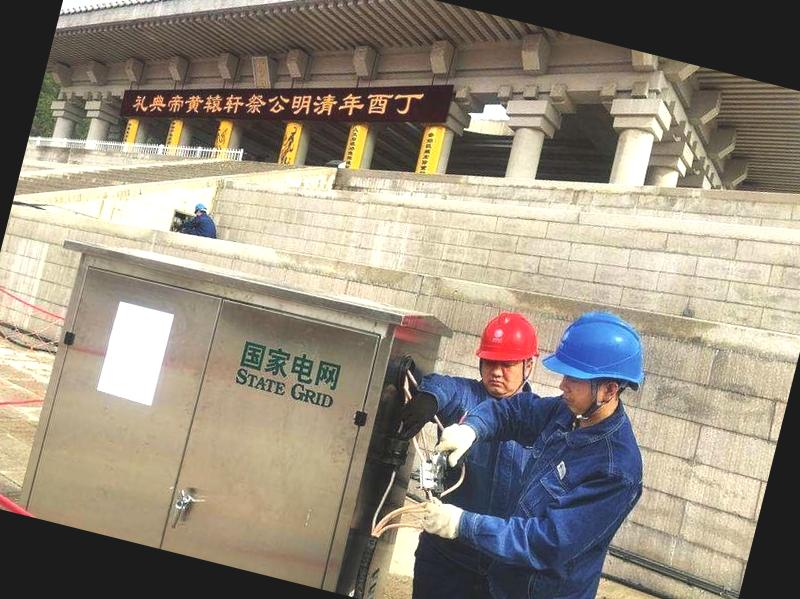helmet: (532, 297, 661, 411), (461, 304, 544, 394)
person: (471, 298, 686, 599)
